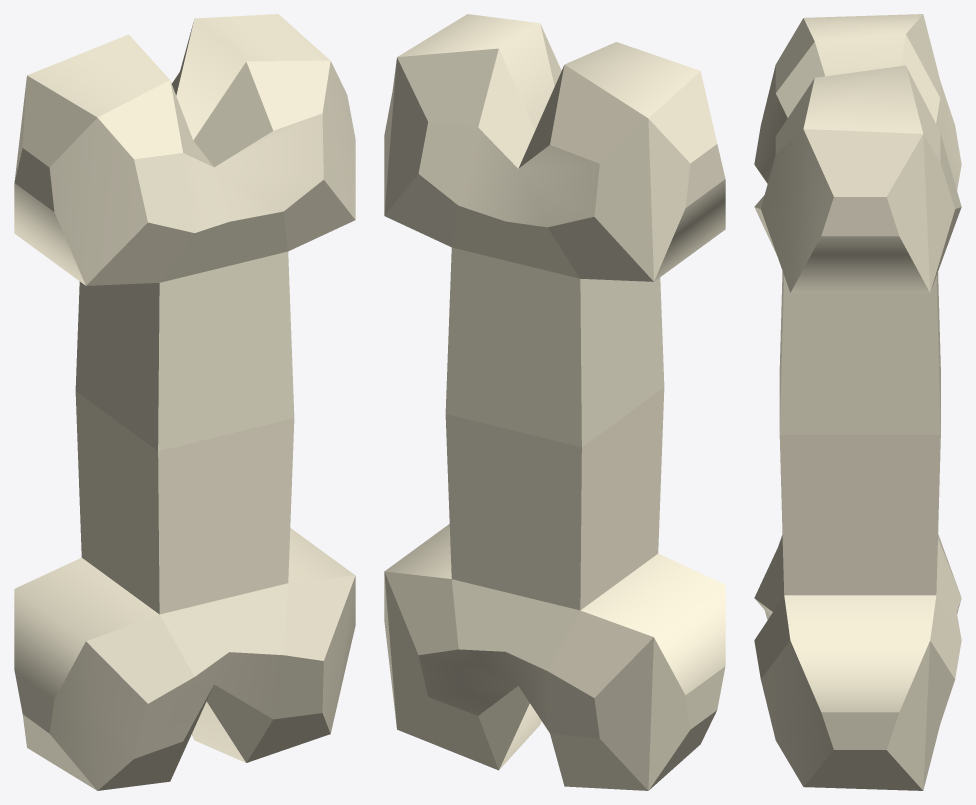
The model's file is bone.fbx.
3 views of the same model, side by side, from view 1: azimuth 30°, elevation 25°; view 2: azimuth 150°, elevation 25°; view 3: azimuth 270°, elevation 25° (orthographic). The views are drawn at different scales.
Parts seen in each view (by area): view 1: pasted__pCube3; view 2: pasted__pCube3; view 3: pasted__pCube3.
Boxes of the visible parts, x1=… form: pasted__pCube3: x1=14, y1=14, x2=355, y2=790; pasted__pCube3: x1=384, y1=14, x2=725, y2=790; pasted__pCube3: x1=754, y1=14, x2=961, y2=790.
Bounding box in the file's own units: 8.11 × 18.59 × 4.95.
